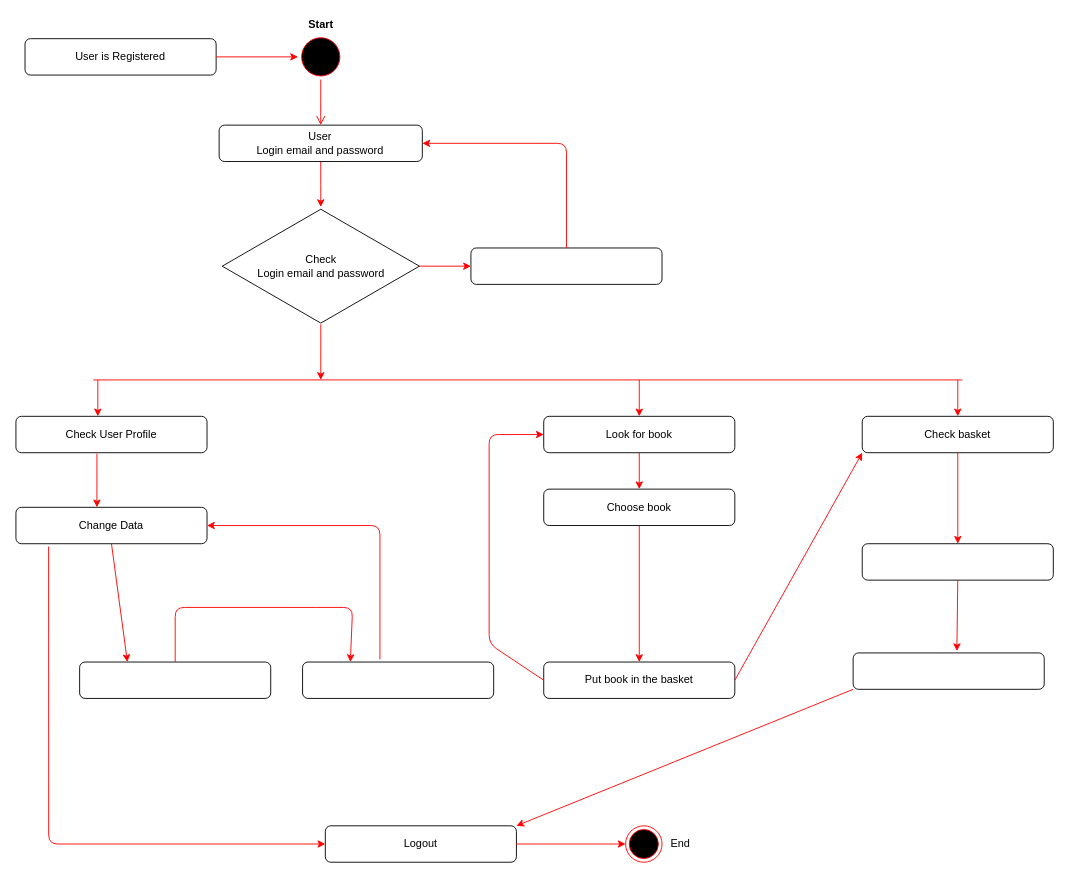
The diagram is 1069 pixels wide and 878 high, and some of its shapes have lost their labels. The shapes that lost their labels are listed below. From the top down, each one's centre as x and y in pixels, then its label:
the point at 566,265: Invalid Login
the point at 957,561: Edit the basket items
the point at 175,679: Change password
the point at 398,679: Check Email
the point at 948,670: Submit order
